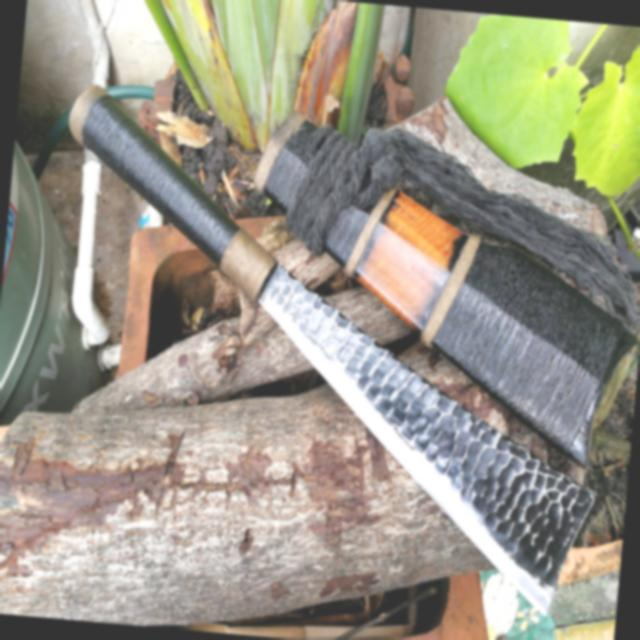eto: (52, 64, 613, 629)
